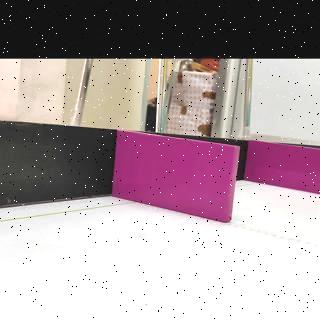xparking: (114, 146, 233, 210), (250, 149, 320, 188)
